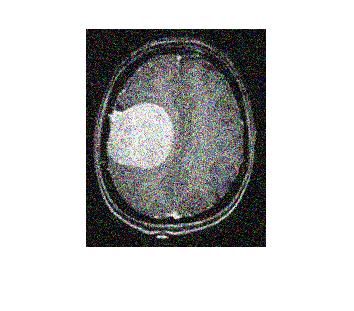Brain_Cancer: (102, 101, 177, 171)
